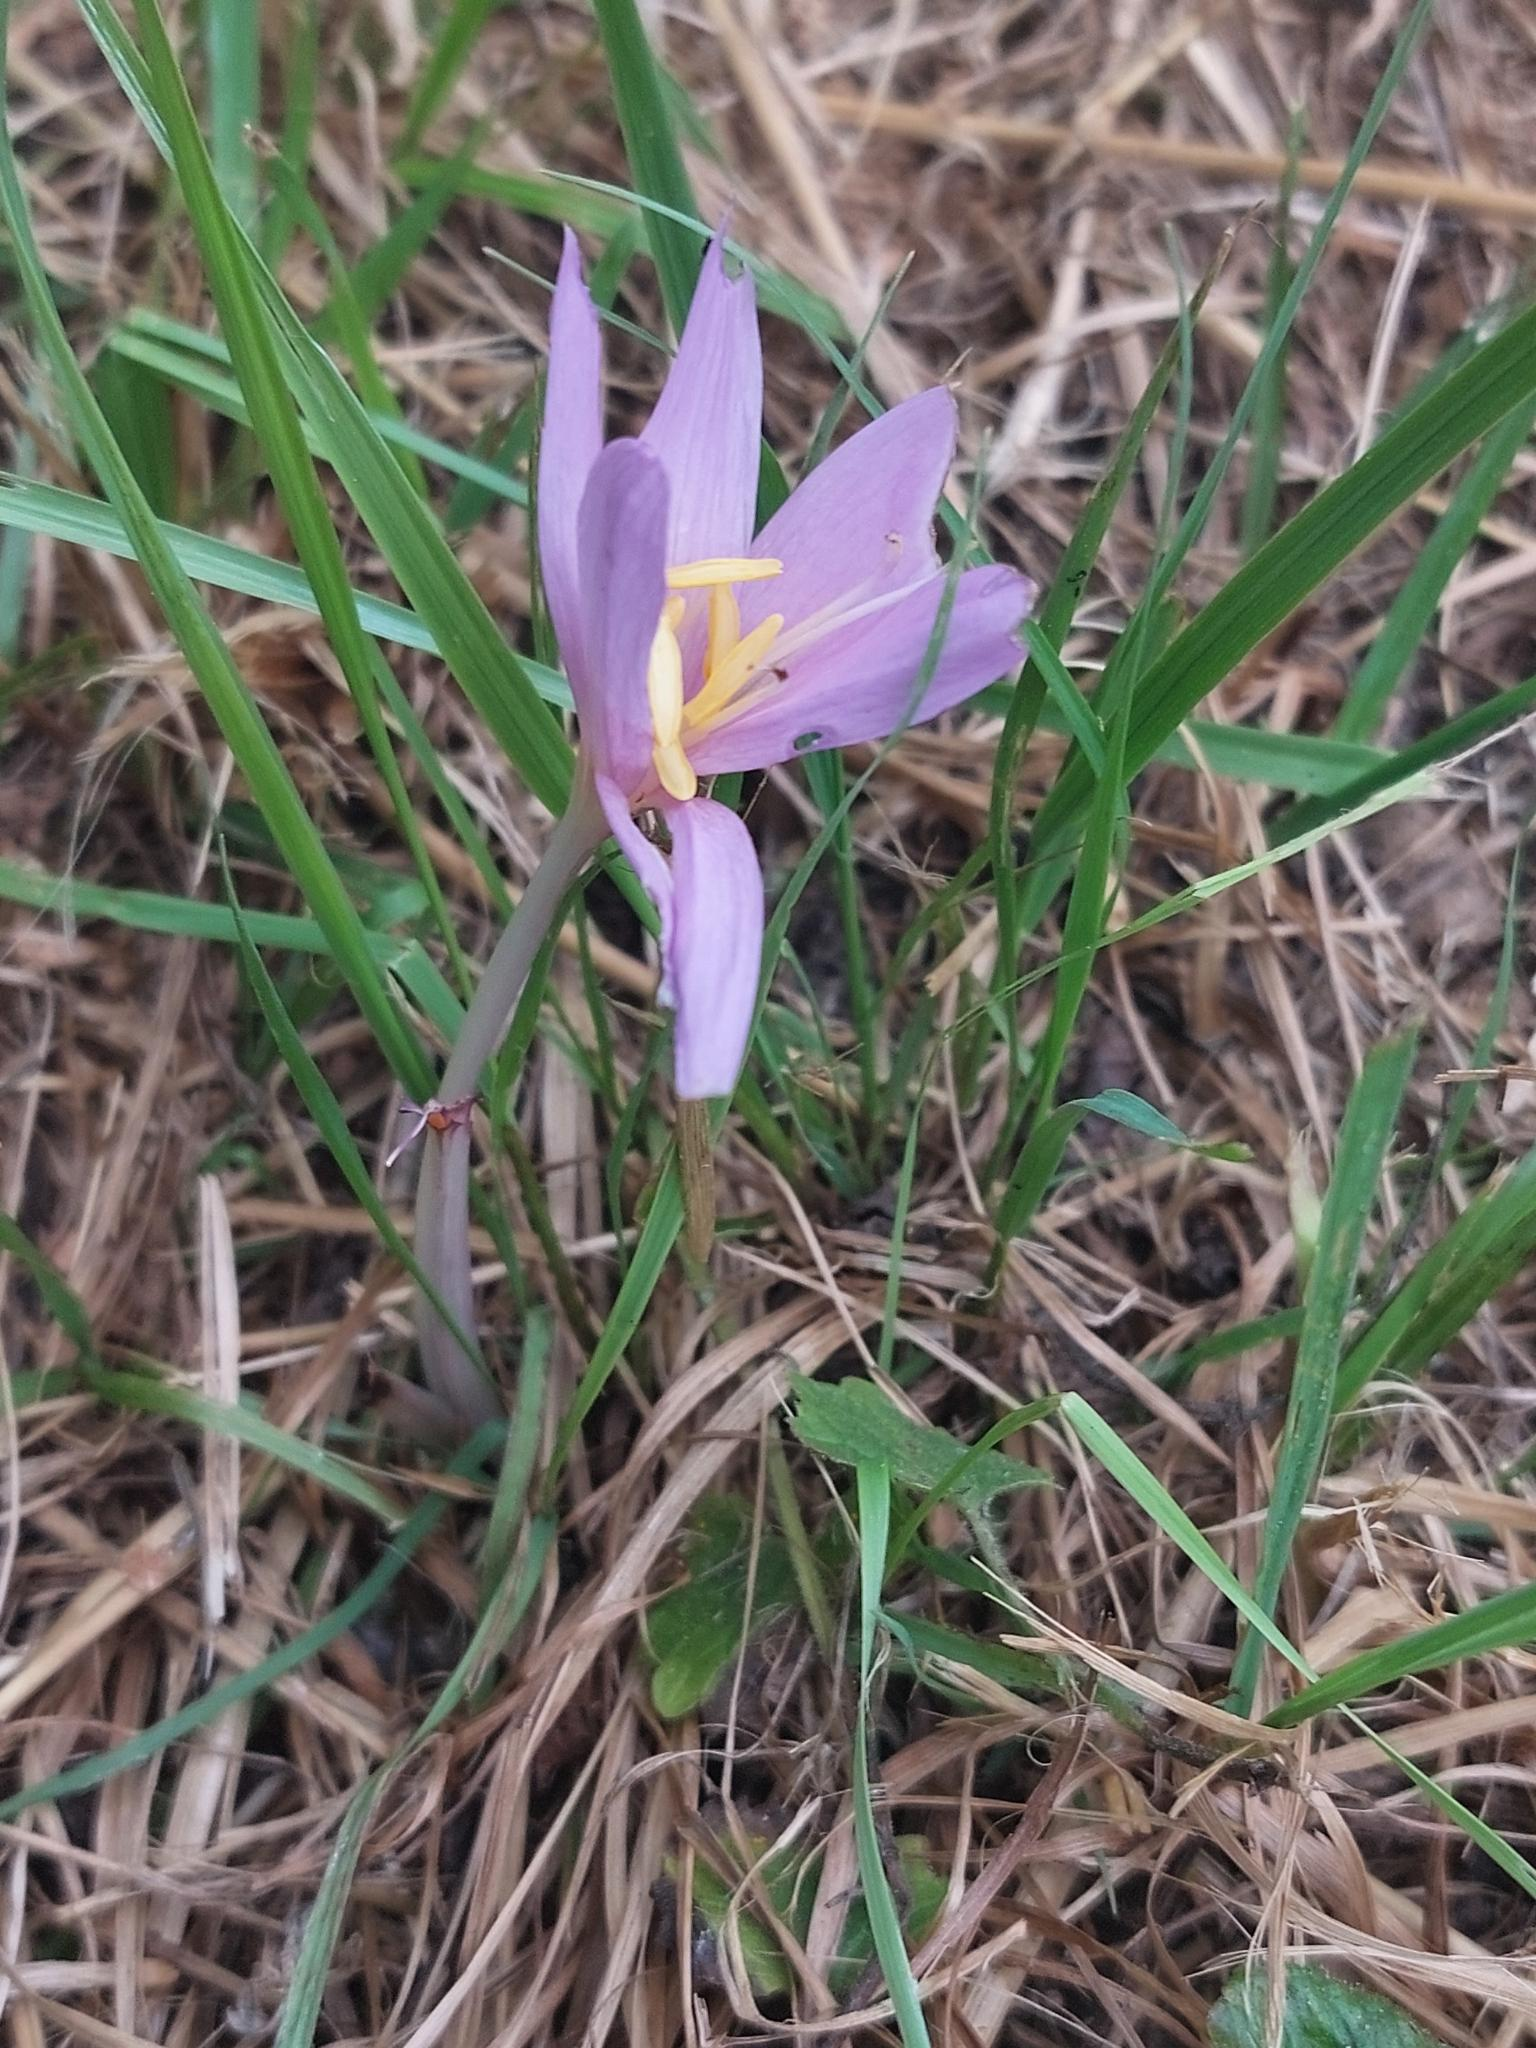Colchicum autumnale L: (207, 177, 1226, 1675)
